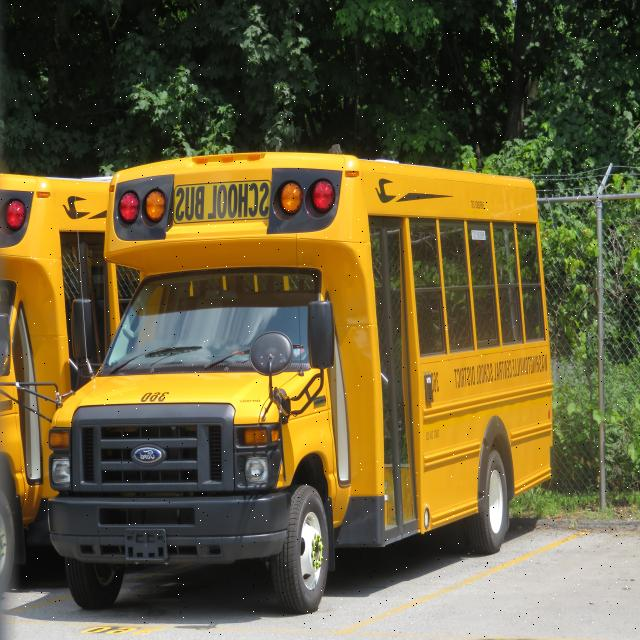Bus: (46, 152, 552, 608), (1, 174, 137, 584)
